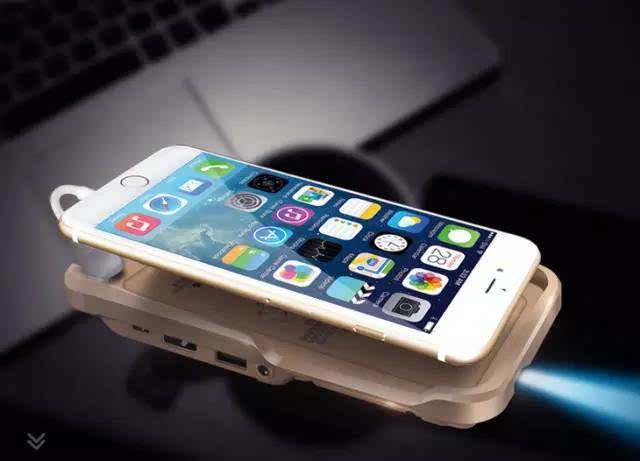phone: (69, 144, 522, 362)
